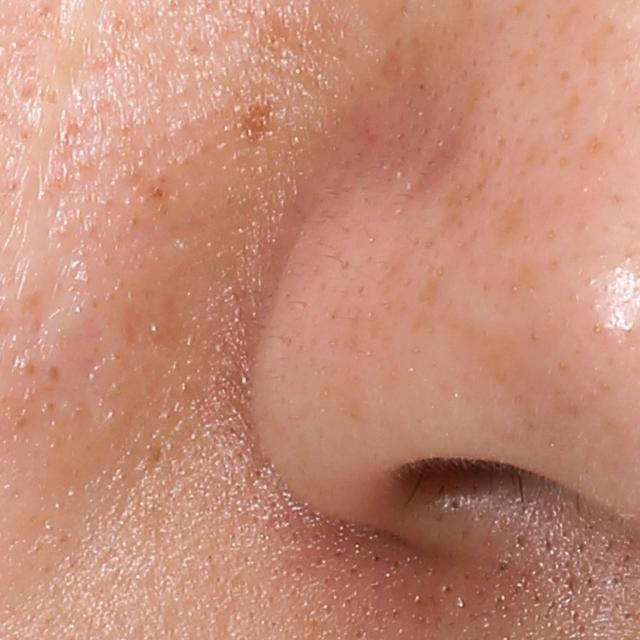melasma: (435, 148, 504, 244), (243, 100, 276, 151), (411, 266, 444, 316), (495, 197, 526, 239)
